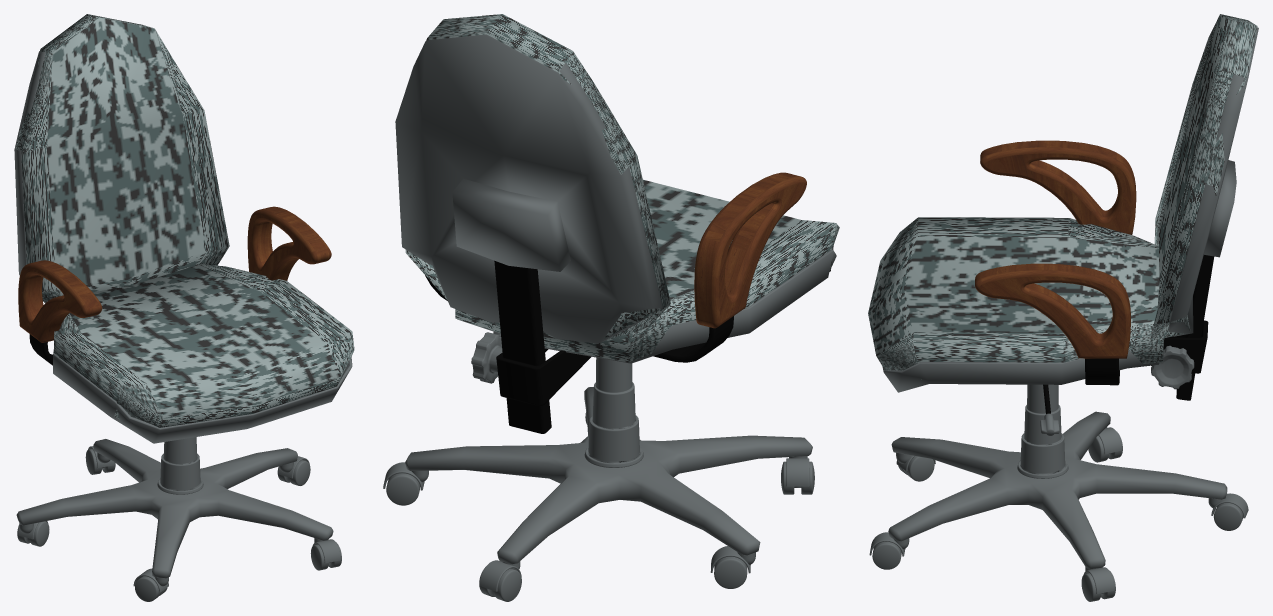
The model's file is office-chair1.fbx.
3 views of the same model, side by side, from view 1: azimuth 30°, elevation 25°; view 2: azimuth 150°, elevation 25°; view 3: azimuth 270°, elevation 25° (orthographic). The views are drawn at different scales.
Parts seen in each view (by area): view 1: Cube.001, Cube_2, Cylinder, Низ_сидения_3, Выдавливание, Cone, Закругление_1, Закругление_2, Низ_сидения, Шапка_1, Шапка_2, Oil_Tank (+1 smaller); view 2: Низ_сидения, Cylinder, Cube_2, Cube.001, Стойка_спинки, Cone, Низ_сидения_3, Выдавливание, Extrude_NURBS_2, Закругление_1, Шапка_1, Симметрия_1 (+7 smaller); view 3: Cube_2, Cylinder, Cube.001, Низ_сидения, Низ_сидения_3, Закругление_1, Выдавливание, Закругление_2, Cone, Шапка_1, Шапка_2, Стойка_спинки (+7 smaller).
Part boxes in pixels (x1,y1,x2,y2): Cube.001: [15, 14, 229, 303]; Cube_2: [54, 264, 354, 427]; Cylinder: [16, 439, 333, 578]; Низ_сидения_3: [53, 349, 352, 443]; Выдавливание: [28, 206, 329, 342]; Cone: [157, 437, 203, 494]; Закругление_1: [18, 206, 331, 342]; Закругление_2: [40, 209, 317, 330]; Низ_сидения: [14, 51, 45, 275]; Шапка_1: [18, 268, 82, 338]; Шапка_2: [248, 214, 311, 278]; Oil_Tank: [135, 576, 167, 601]; Низ_сидения: [395, 34, 662, 343]; Cylinder: [405, 387, 812, 564]; Cube_2: [455, 179, 839, 362]; Cube.001: [405, 14, 670, 339]; Стойка_спинки: [494, 260, 551, 433]; Cone: [584, 357, 643, 467]; Низ_сидения_3: [457, 249, 836, 363]; Выдавливание: [697, 172, 799, 328]; Extrude_NURBS_2: [496, 348, 591, 405]; Закругление_1: [711, 176, 806, 328]; Шапка_1: [719, 183, 806, 322]; Симметрия_1: [425, 275, 733, 362]; Cube_2: [868, 217, 1164, 379]; Cylinder: [888, 411, 1227, 569]; Cube.001: [1153, 14, 1257, 340]; Низ_сидения: [1168, 27, 1258, 336]; Низ_сидения_3: [882, 350, 1159, 392]; Закругление_1: [975, 140, 1130, 358]; Выдавливание: [975, 141, 1136, 340]; Закругление_2: [976, 147, 1135, 333]; Cone: [1017, 384, 1068, 478]; Шапка_1: [979, 276, 1125, 355]; Шапка_2: [984, 153, 1131, 232]; Стойка_спинки: [1176, 255, 1214, 400].
Bounding box in the file's own units: 6.52 × 9.72 × 6.81.
Materials: 5 (3 with a texture image).
